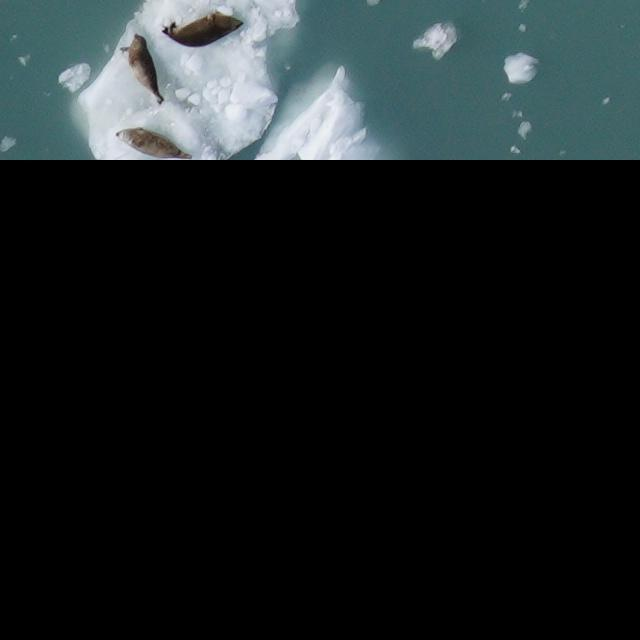seal: (159, 2, 250, 56), (112, 118, 198, 173), (115, 31, 174, 110)
